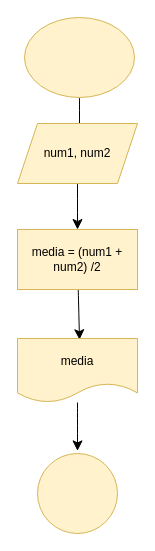
Some shapes in this 155 by 551 pixel diagram are drawn without their labels. The centre of each missing label's shape, as x and y in pixels:
"Fim" belongs at [77,493].
"Início" belongs at [79,57].
